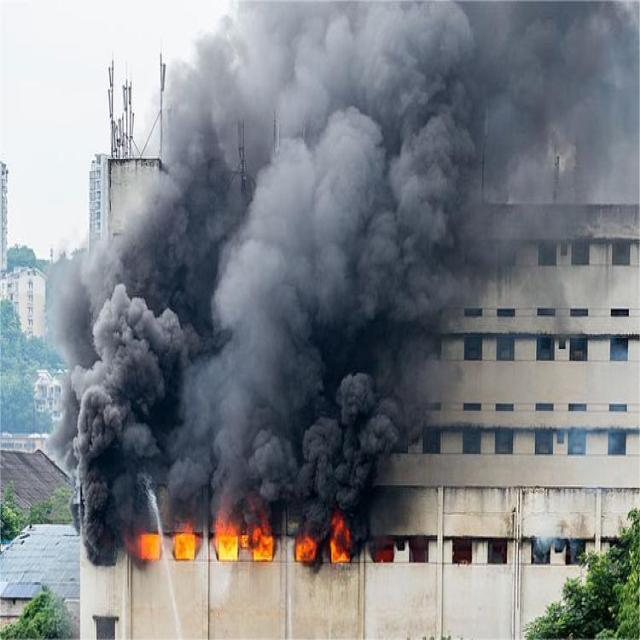Fire: (330, 518, 350, 564), (215, 526, 239, 560), (253, 526, 274, 562), (294, 532, 316, 564), (140, 530, 160, 562), (174, 534, 196, 562)
Smoke: (148, 2, 640, 230), (48, 232, 444, 514)
